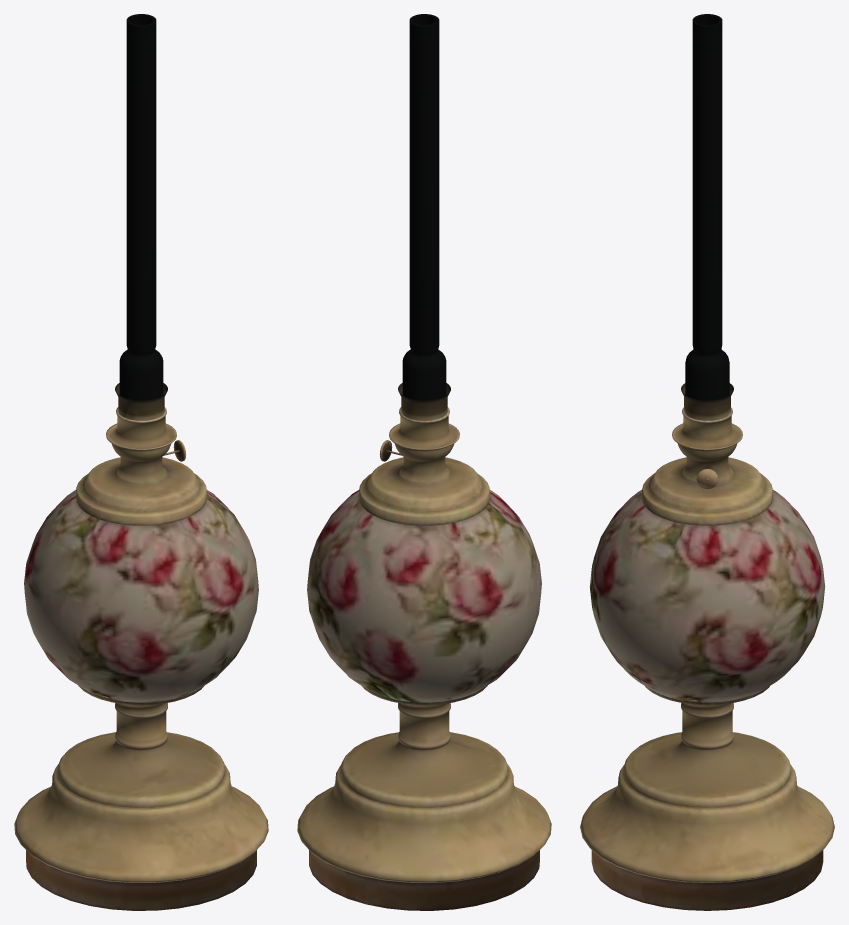
File: vintage_oil_lamp.glb
3 views of the same model, side by side, from view 1: azimuth 30°, elevation 25°; view 2: azimuth 150°, elevation 25°; view 3: azimuth 270°, elevation 25° (orthographic).
Visible parts, largest first — view 1: vintage_oil_lamp, vintage_oil_lamp_glass; view 2: vintage_oil_lamp, vintage_oil_lamp_glass; view 3: vintage_oil_lamp, vintage_oil_lamp_glass.
Boxes of the visible parts, bbox=[...] form: vintage_oil_lamp: bbox=[14, 407, 268, 910]; vintage_oil_lamp_glass: bbox=[115, 14, 167, 420]; vintage_oil_lamp: bbox=[297, 407, 551, 910]; vintage_oil_lamp_glass: bbox=[398, 14, 450, 420]; vintage_oil_lamp: bbox=[580, 407, 834, 910]; vintage_oil_lamp_glass: bbox=[681, 14, 733, 420].
Bounding box in the file's own units: 0.22 × 0.8016 × 0.22.
Materials: 3 (3 with a texture image).
